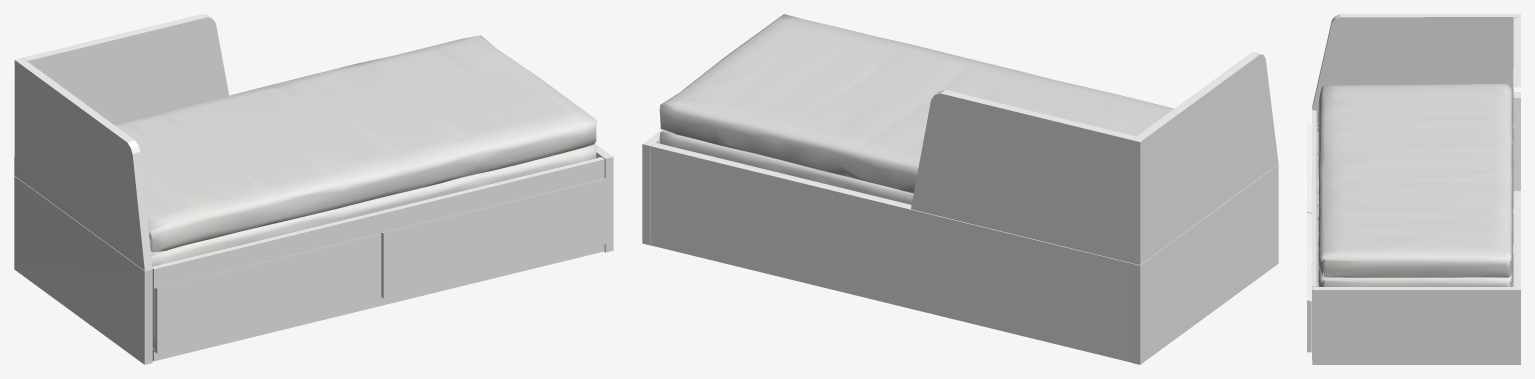
Rendered from flekke_lezanka_z_2_szufladami_2_materace_79521455.glb.
The picture shows the model from 3 angles, left to right: view 1: azimuth 30°, elevation 25°; view 2: azimuth 150°, elevation 25°; view 3: azimuth 270°, elevation 25°; orthographic projection. The views are drawn at different scales.
Visible parts, largest first — view 1: flekke_lezanka_z_2_szufladami_2_materace_79521455; view 2: flekke_lezanka_z_2_szufladami_2_materace_79521455; view 3: flekke_lezanka_z_2_szufladami_2_materace_79521455.
Boxes of the visible parts, x1,y1,x2,y2 form: flekke_lezanka_z_2_szufladami_2_materace_79521455: [14, 14, 613, 364]; flekke_lezanka_z_2_szufladami_2_materace_79521455: [642, 14, 1278, 364]; flekke_lezanka_z_2_szufladami_2_materace_79521455: [1307, 14, 1520, 364].
Size of the model in its own units: 1.98 by 0.8551 by 0.98.
1 material, 1 textured.
